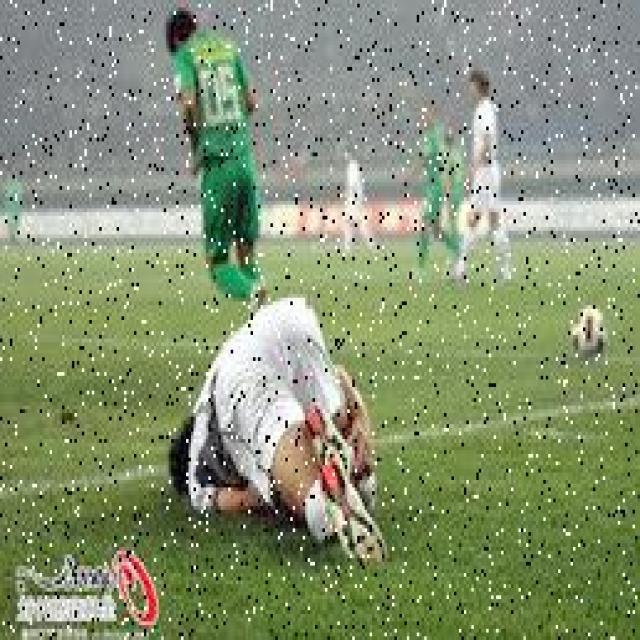fall: (156, 309, 402, 558)
